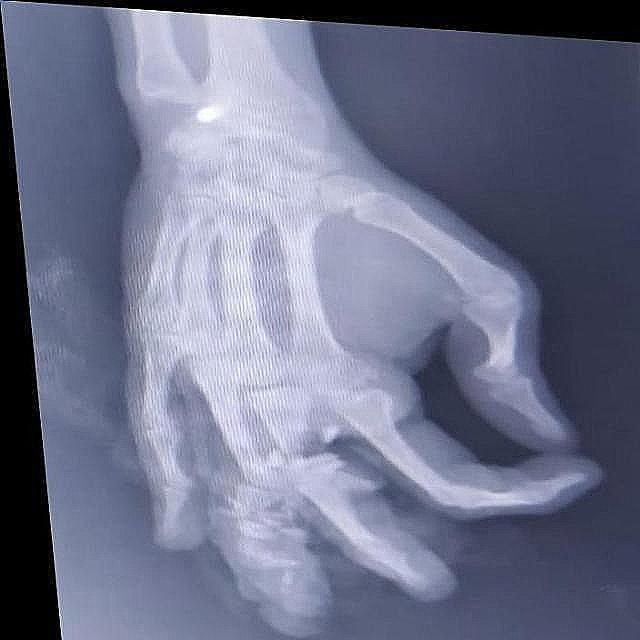bone: (205, 460, 298, 552), (268, 415, 342, 485)
